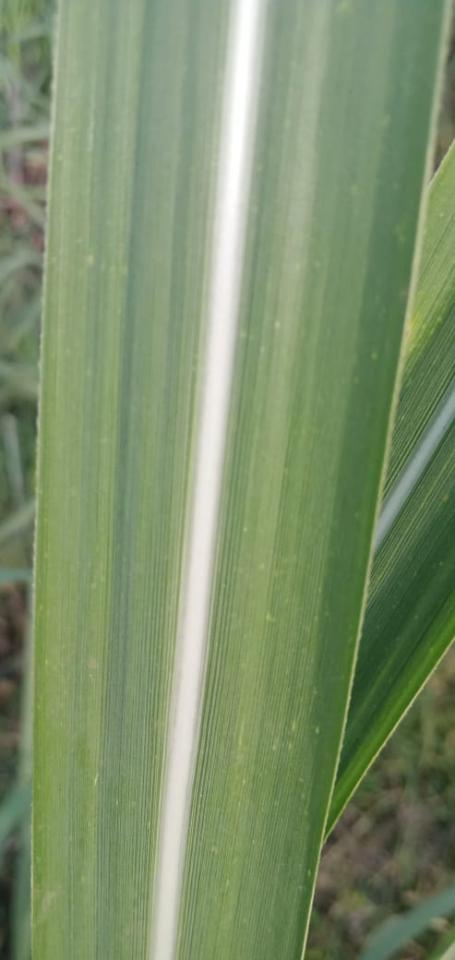Healthy: (32, 0, 449, 959), (326, 144, 454, 835)
